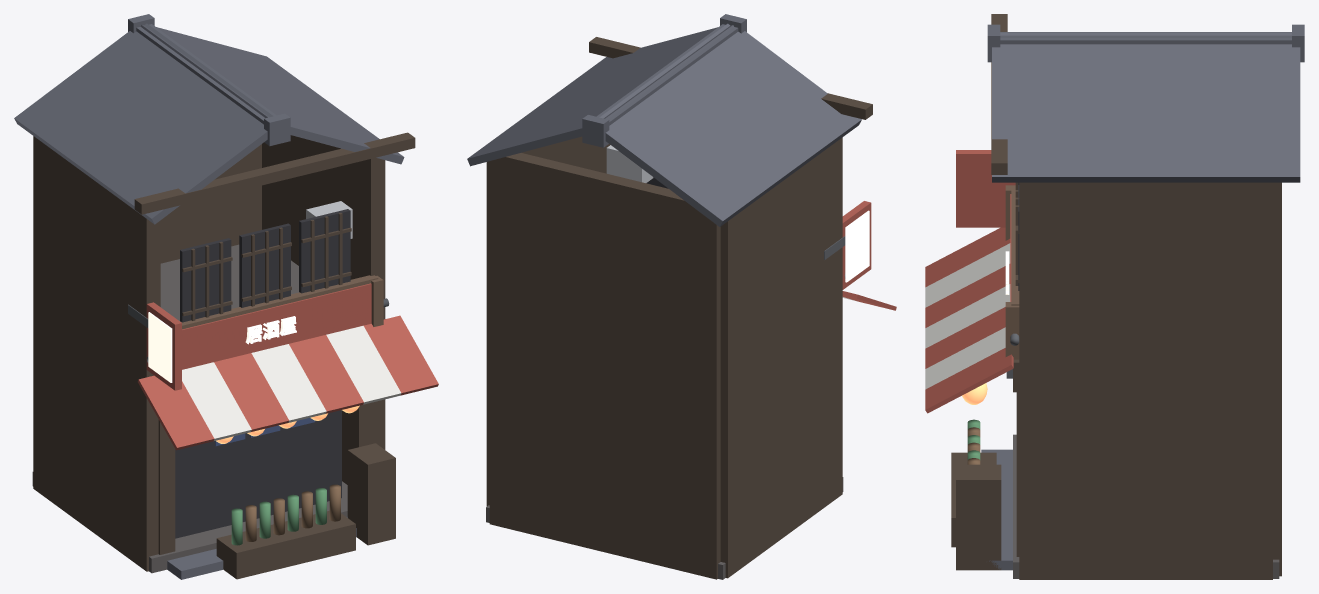
The model's file is prop_shop_izakaya.glb.
3 renders of one model, left to right at view 1: azimuth 30°, elevation 25°; view 2: azimuth 150°, elevation 25°; view 3: azimuth 270°, elevation 25°, orthographic. The views are drawn at different scales.
Visible parts, largest first — view 1: shop_izakaya; view 2: shop_izakaya; view 3: shop_izakaya.
Boxes of the visible parts, bbox=[...] form: shop_izakaya: bbox=[14, 14, 438, 579]; shop_izakaya: bbox=[467, 14, 896, 579]; shop_izakaya: bbox=[925, 14, 1304, 579].
Size of the model in its own units: 3.9 by 5.9 by 4.19.
